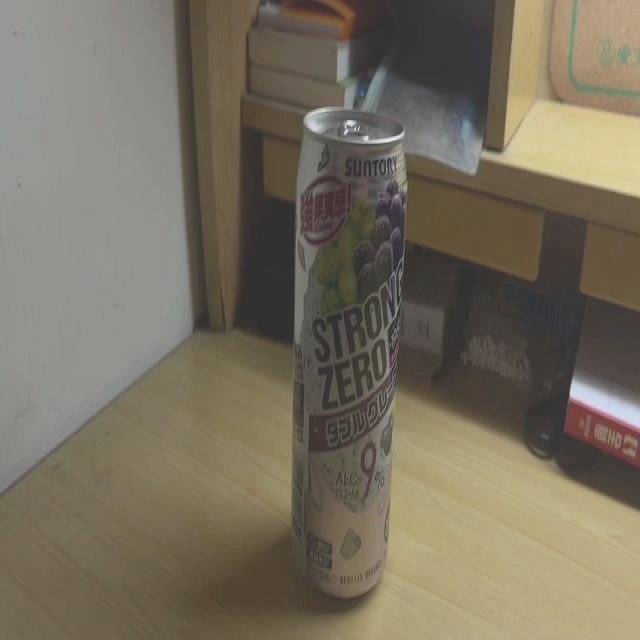Liquor: (292, 105, 408, 603)
